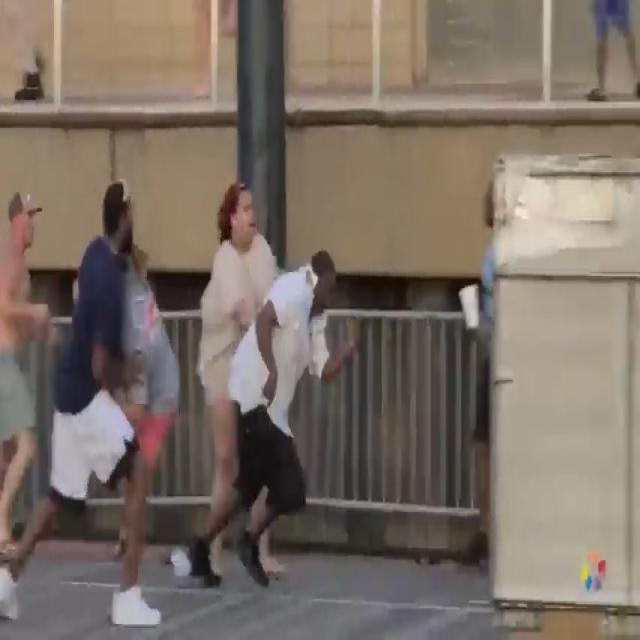fight: (0, 165, 365, 634)
